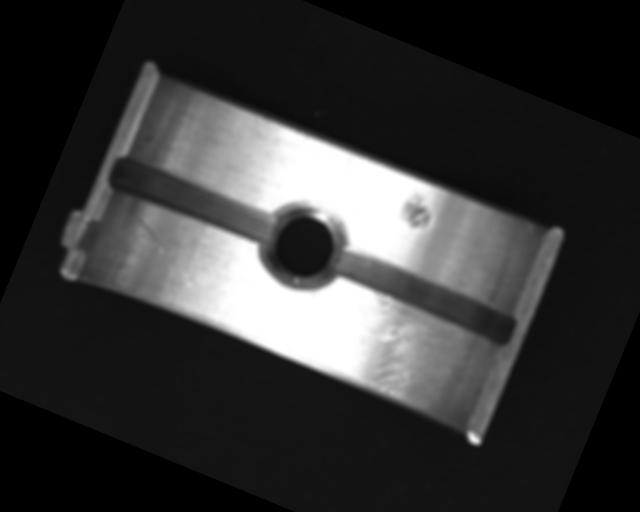bruise: (396, 186, 440, 234)
gap: (324, 240, 520, 350), (106, 150, 278, 249)
hole: (250, 191, 356, 303)
nick: (115, 211, 213, 290)
scratch: (297, 274, 493, 430)
